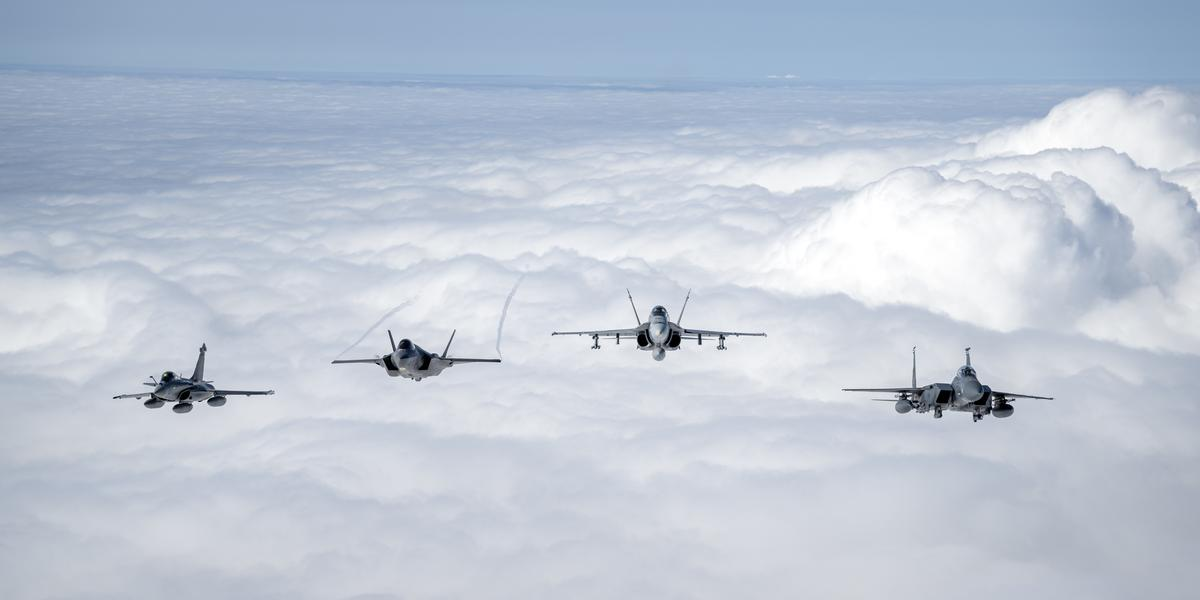F35: (334, 326, 503, 380)
Rafale: (113, 344, 279, 412)
